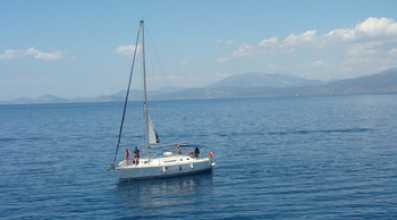fanchuan: (105, 17, 213, 184)
